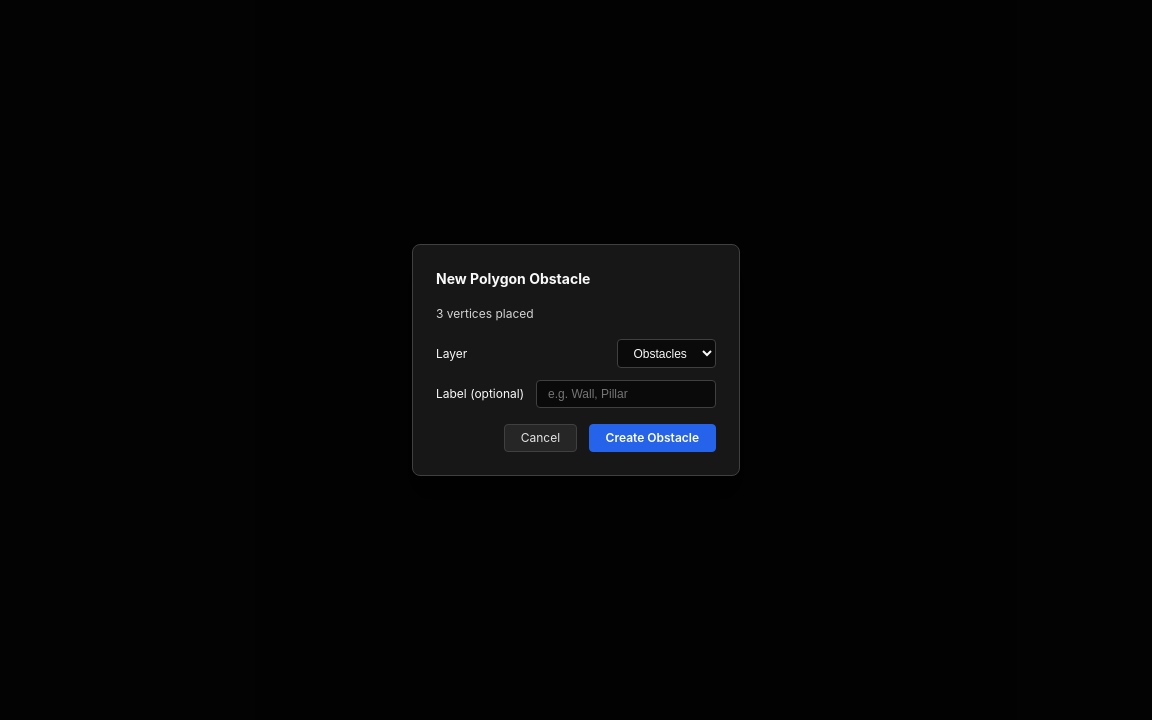
authoritative polygon creation › times out without automatically retrying an uncertain write
Click the button "Create Obstacle".
click(652, 438)  # box [589,424,716,452]
Wait 15000 ms
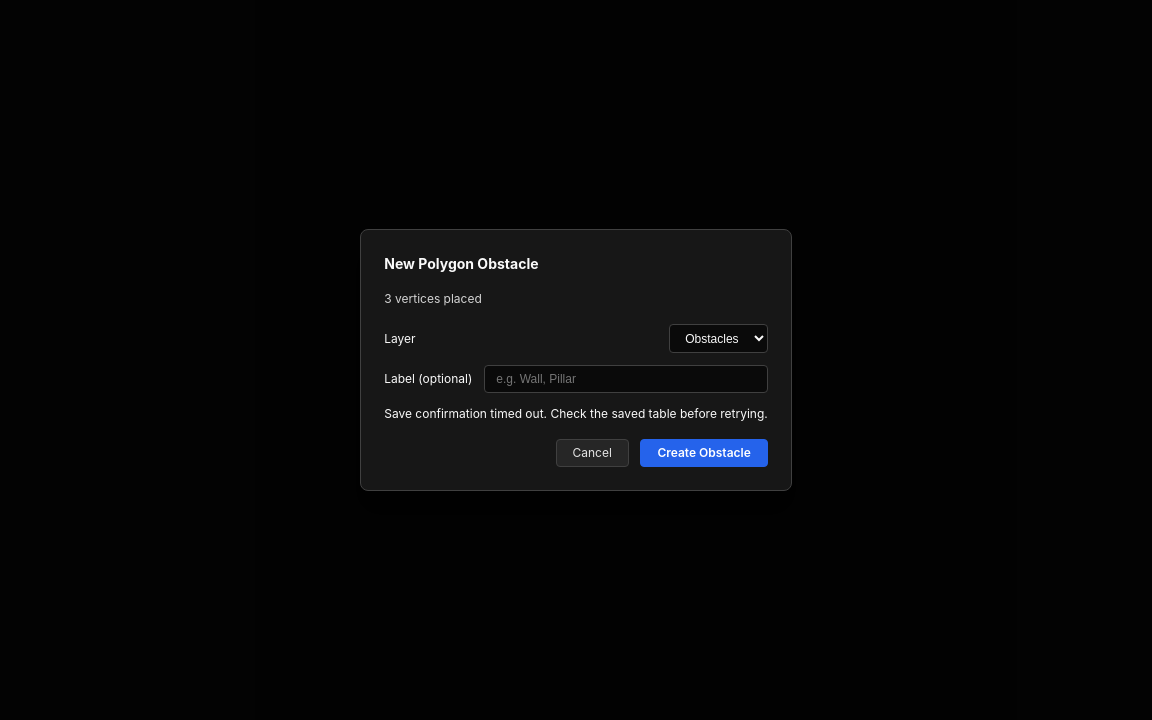
Now the message shows "Check the saved table before retrying", box [384,406,768,420]
